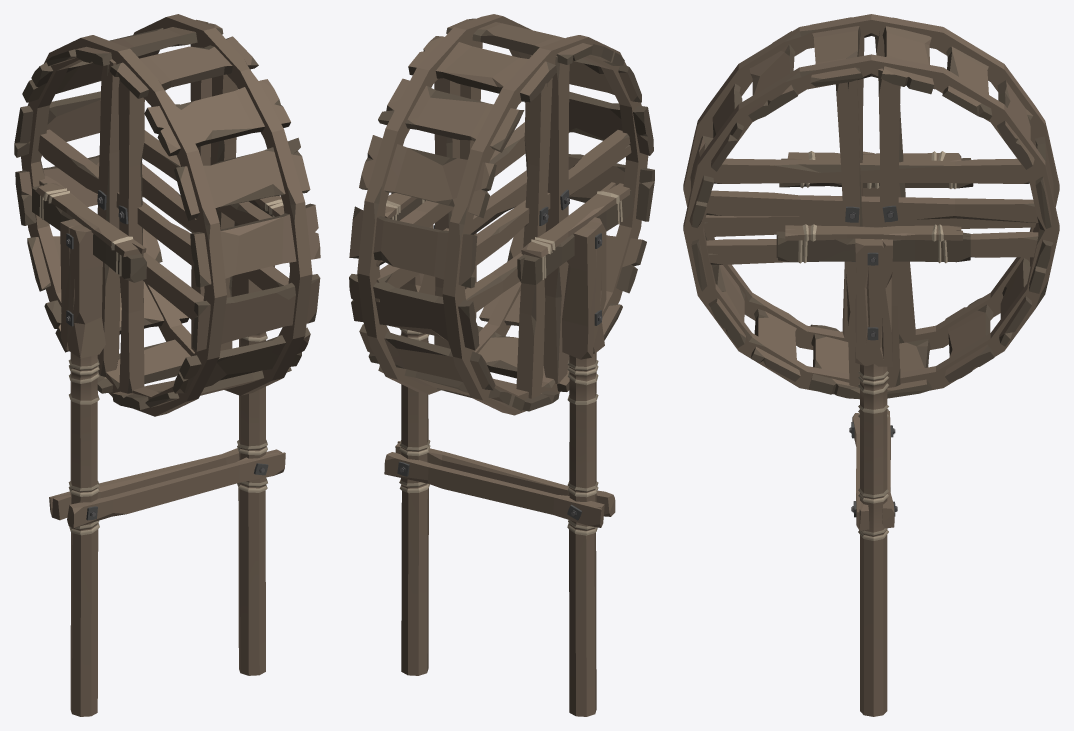
The model's file is SM_Env_Wood_Construction_Wheel_01.glb.
3 renders of one model, left to right at view 1: azimuth 30°, elevation 25°; view 2: azimuth 150°, elevation 25°; view 3: azimuth 270°, elevation 25°, orthographic. The views are drawn at different scales.
Visible parts, largest first — view 1: SM_Env_Wood_Construction_Wheel_01; view 2: SM_Env_Wood_Construction_Wheel_01; view 3: SM_Env_Wood_Construction_Wheel_01.
Boxes of the visible parts, box(x1,y1,x2,y2) form: SM_Env_Wood_Construction_Wheel_01: box(14, 14, 320, 716); SM_Env_Wood_Construction_Wheel_01: box(349, 14, 654, 716); SM_Env_Wood_Construction_Wheel_01: box(683, 14, 1059, 716).
Bounding box in the file's own units: 0.0347 × 0.0985 × 0.053.
Materials: 1 (1 with a texture image).
